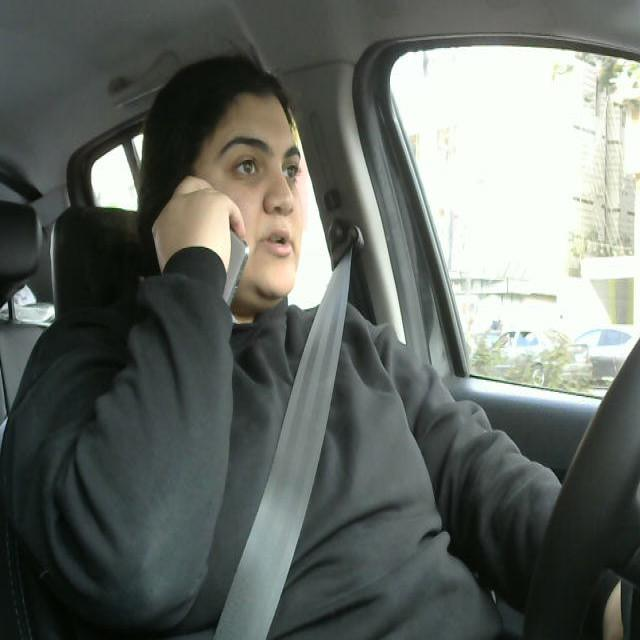mobile use: (154, 180, 253, 322)
